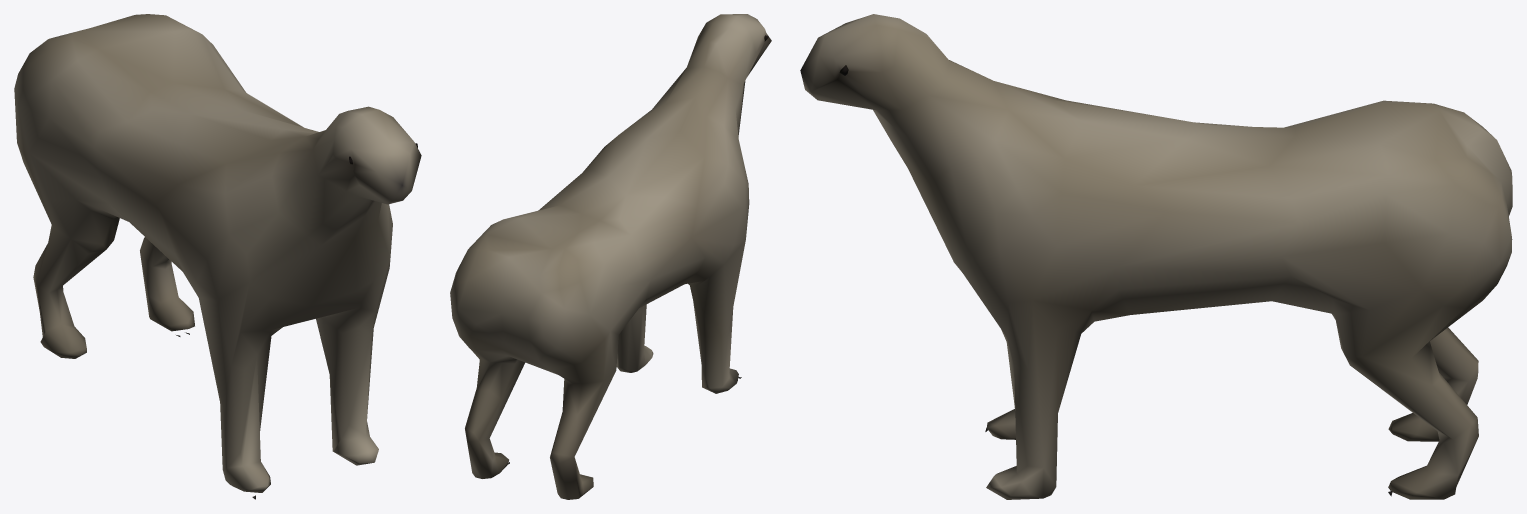
The model's file is faultier.glb.
The picture shows the model from 3 angles, left to right: view 1: azimuth 30°, elevation 25°; view 2: azimuth 150°, elevation 25°; view 3: azimuth 270°, elevation 25°; orthographic projection. The views are drawn at different scales.
Parts seen in each view (by area): view 1: lack; view 2: lack; view 3: lack.
Boxes of the visible parts, x1,y1,x2,y2 form: lack: [14, 14, 421, 499]; lack: [450, 14, 771, 499]; lack: [800, 14, 1512, 499].
Size of the model in its own units: 0.2071 by 0.4329 by 0.6237.
